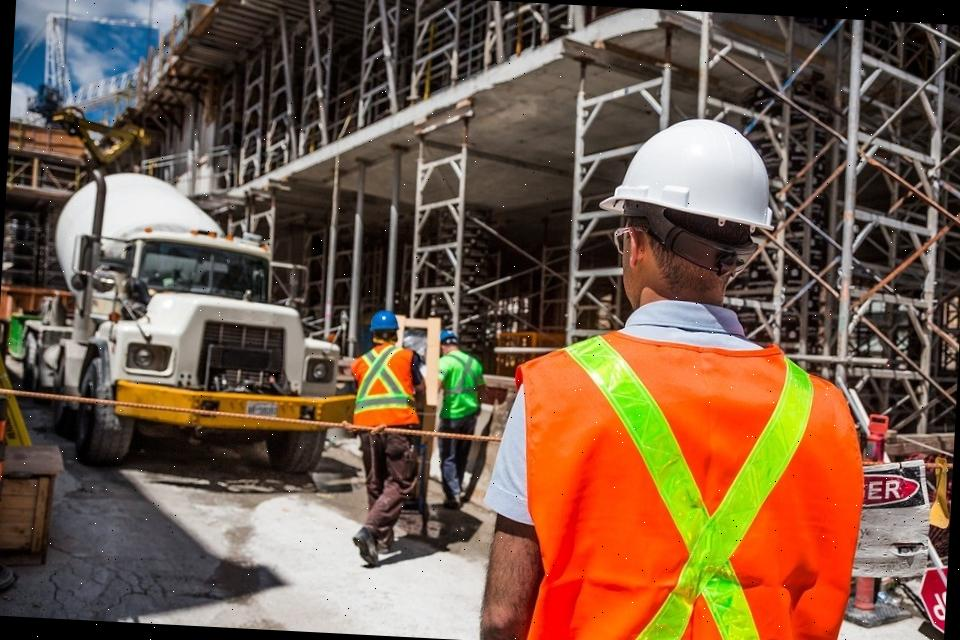helmet: (612, 114, 790, 234), (364, 306, 402, 332), (439, 327, 458, 342)
wear: (503, 333, 861, 640), (346, 345, 419, 434), (436, 355, 483, 419)
